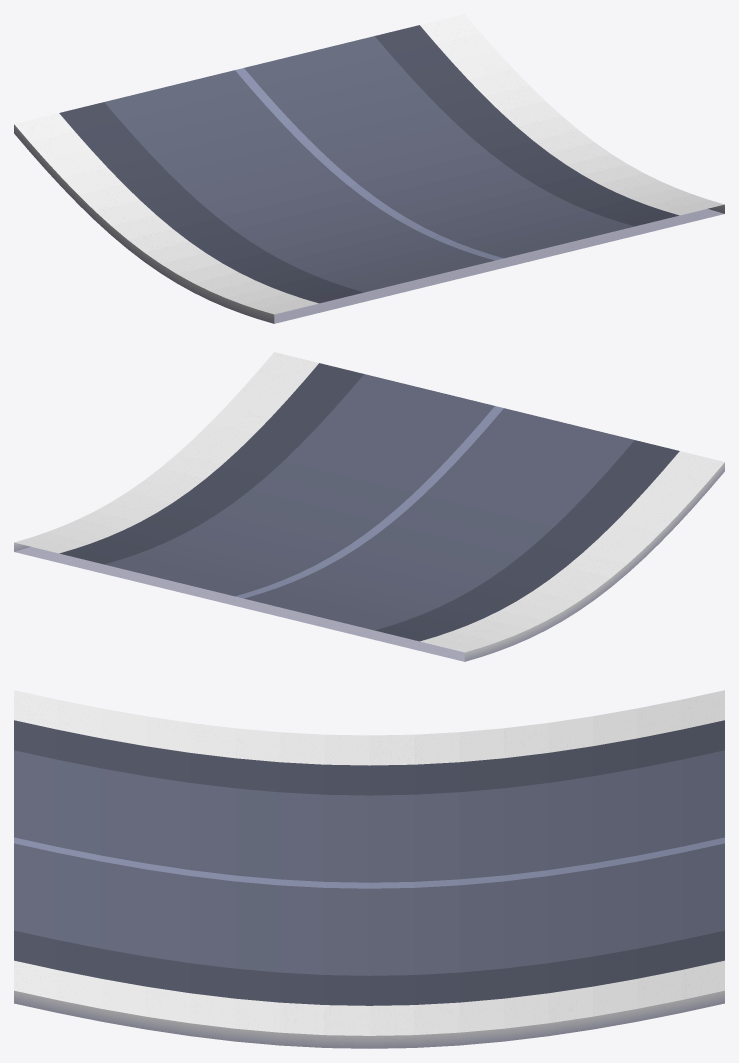
File: road-Straight-BiSlopeDown-BiSlopeUp-Even-Center-Size1.glb
3 views of the same model, one above another, from view 1: azimuth 30°, elevation 25°; view 2: azimuth 150°, elevation 25°; view 3: azimuth 270°, elevation 25° (orthographic). The views are drawn at different scales.
Visible parts, largest first — view 1: road-Straight-BiSlopeDown-BiSlopeUp-Even-Center-Size1; view 2: road-Straight-BiSlopeDown-BiSlopeUp-Even-Center-Size1; view 3: road-Straight-BiSlopeDown-BiSlopeUp-Even-Center-Size1.
Boxes of the visible parts, left/top/right/bottom form: road-Straight-BiSlopeDown-BiSlopeUp-Even-Center-Size1: left=14, top=14, right=724, bottom=323; road-Straight-BiSlopeDown-BiSlopeUp-Even-Center-Size1: left=14, top=352, right=724, bottom=661; road-Straight-BiSlopeDown-BiSlopeUp-Even-Center-Size1: left=14, top=690, right=724, bottom=1048.
Size of the model in its own units: 1 by 0.0903 by 1.
Materials: 1 (1 with a texture image).
